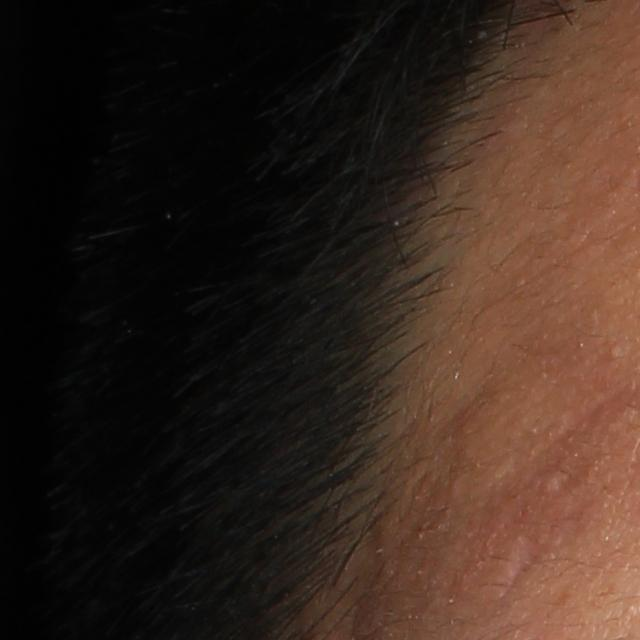comedo: (607, 339, 625, 360)
